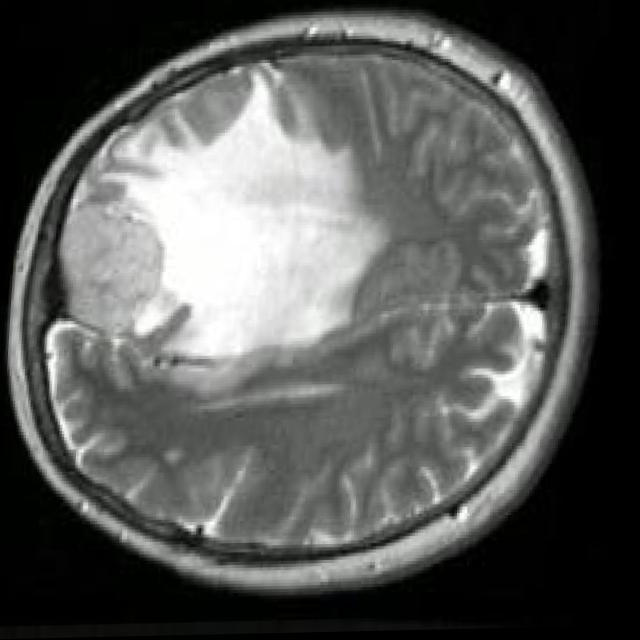Tumor: (101, 93, 386, 357)
